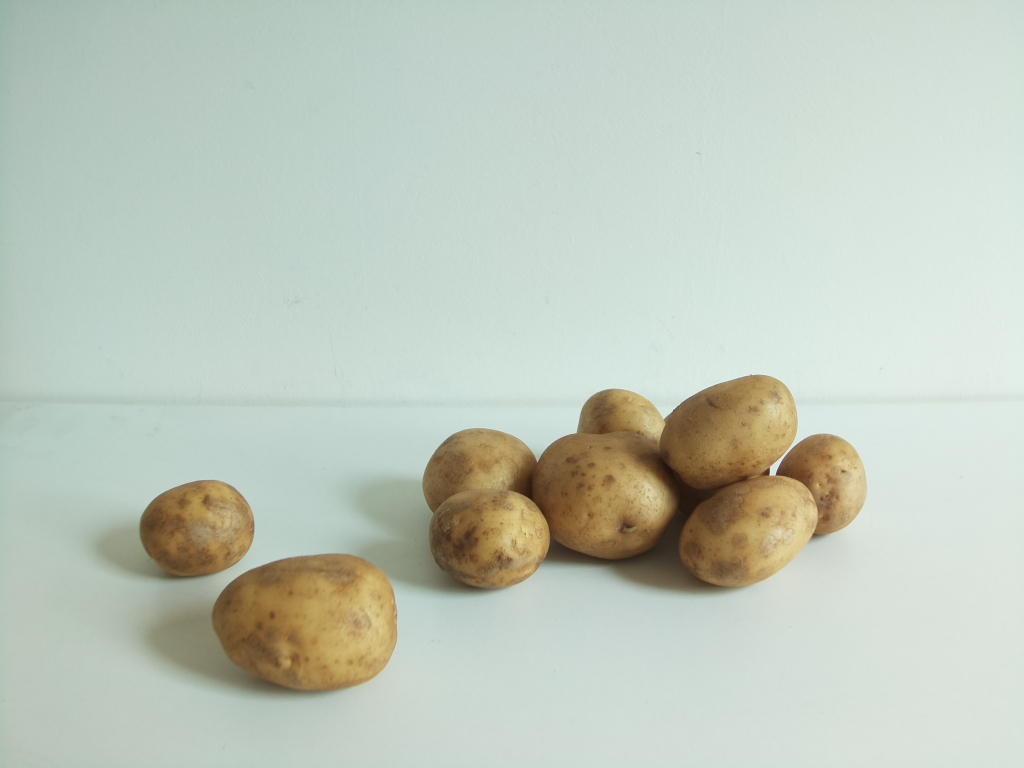potatoes: (419, 375, 868, 591), (212, 556, 396, 696), (142, 484, 249, 580)
